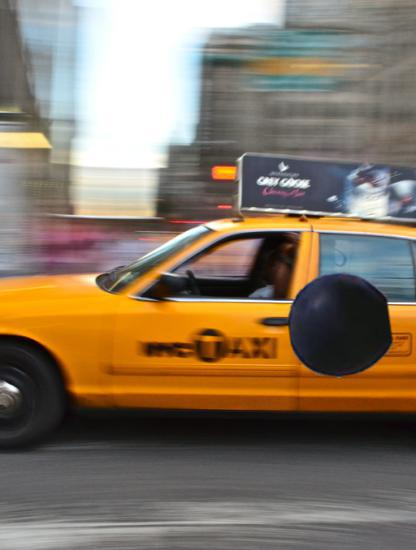Grape: (286, 271, 393, 378)
